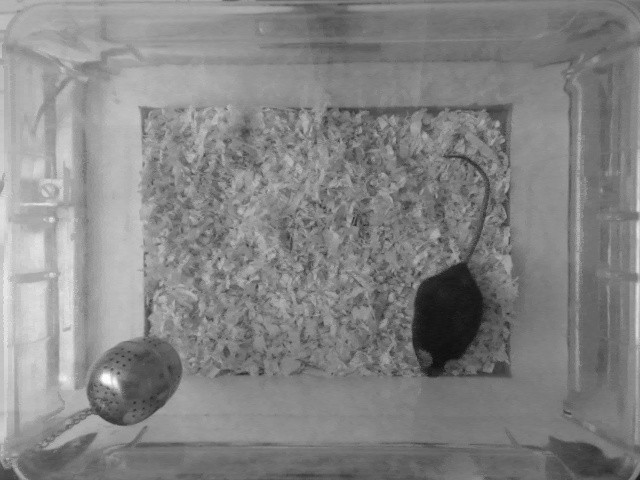mice: (409, 153, 487, 382)
